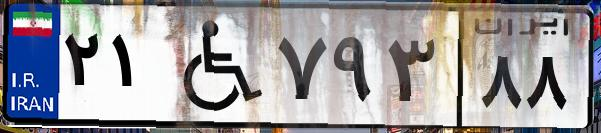1: (110, 28, 158, 98)
2: (57, 26, 110, 100)
3: (385, 28, 445, 110)
7: (270, 28, 330, 110)
8: (475, 38, 525, 113), (525, 38, 570, 115)
9: (330, 28, 385, 110)
ژ (معلولین و جانبازان): (158, 12, 270, 120)
